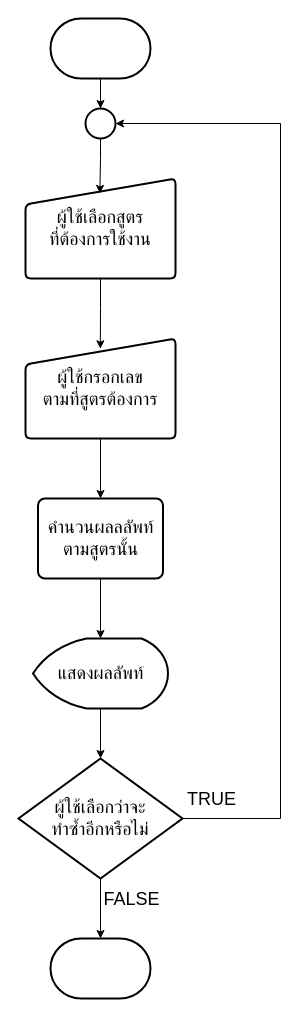
Image size: 306x1016. Some labels were removed from this diagram. The centre of each missing label's shape, as x and y in pixels:
"END" belongs at (100,968).
"START" belongs at (100,48).
